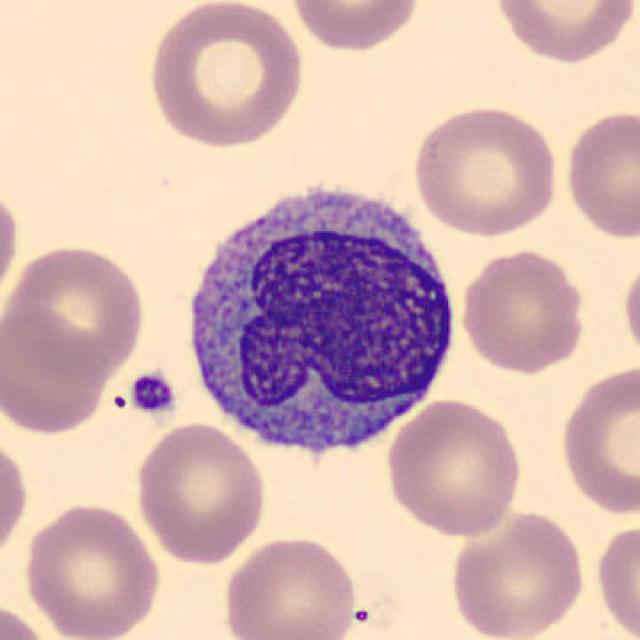Monocyte: (176, 166, 466, 470)
Platelets: (126, 368, 180, 422)
RBC: (144, 0, 308, 150), (409, 101, 563, 238), (2, 240, 149, 382), (382, 395, 524, 539), (20, 499, 164, 640), (132, 420, 270, 566), (444, 506, 588, 640), (457, 245, 588, 376), (218, 532, 362, 640), (0, 302, 112, 438), (556, 362, 638, 518), (562, 106, 638, 242), (489, 0, 638, 65), (284, 0, 425, 55), (592, 518, 638, 640), (0, 432, 32, 566), (0, 182, 23, 312), (618, 250, 640, 371), (0, 599, 55, 640)
